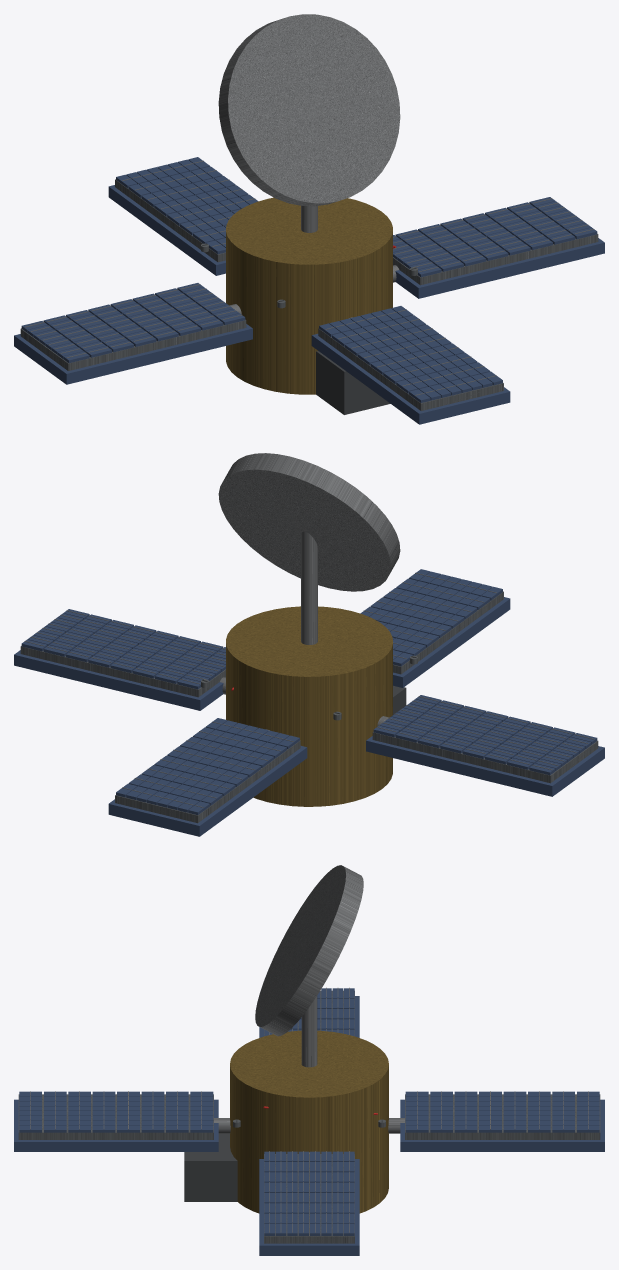
File: orbiter-schematic.glb
3 views of the same model, one above another, from view 1: azimuth 30°, elevation 25°; view 2: azimuth 150°, elevation 25°; view 3: azimuth 270°, elevation 25° (orthographic). The views are drawn at different scales.
Visible parts, largest first — view 1: reflector, body, solar-array (×4), Panel frame (×4), camera; view 2: body, reflector, solar-array (×4), Panel frame (×4), antenna-mast; view 3: body, reflector, solar-array (×3), Panel frame (×3), camera, antenna-mast.
Boxes of the visible parts, box(x1,y1,x2,y2) form: reflector: box(218, 14, 400, 206); body: box(226, 197, 392, 394); solar-array (×4): box(14, 185, 604, 424); Panel frame (×4): box(20, 179, 598, 410); camera: box(316, 351, 390, 414); body: box(226, 606, 392, 806); reflector: box(218, 453, 400, 591); solar-array (×4): box(14, 597, 604, 836); Panel frame (×4): box(20, 591, 598, 823); antenna-mast: box(301, 531, 317, 644); body: box(230, 1030, 388, 1213); reflector: box(255, 865, 363, 1036); solar-array (×3): box(14, 1099, 604, 1255); Panel frame (×3): box(18, 1094, 600, 1243); camera: box(184, 1133, 237, 1201); antenna-mast: box(301, 996, 317, 1067).
Size of the model in its own units: 2.6 by 1.52 by 2.6.
8 materials, 3 textured.
